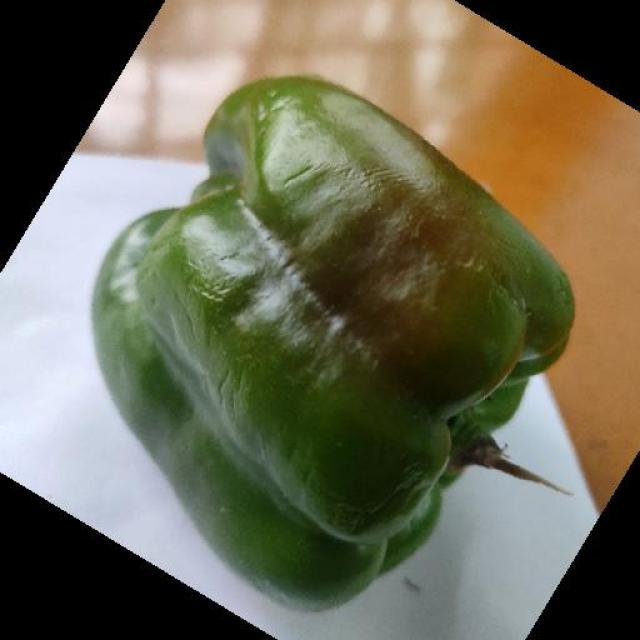Stale_Capsicum: (157, 75, 534, 580)
